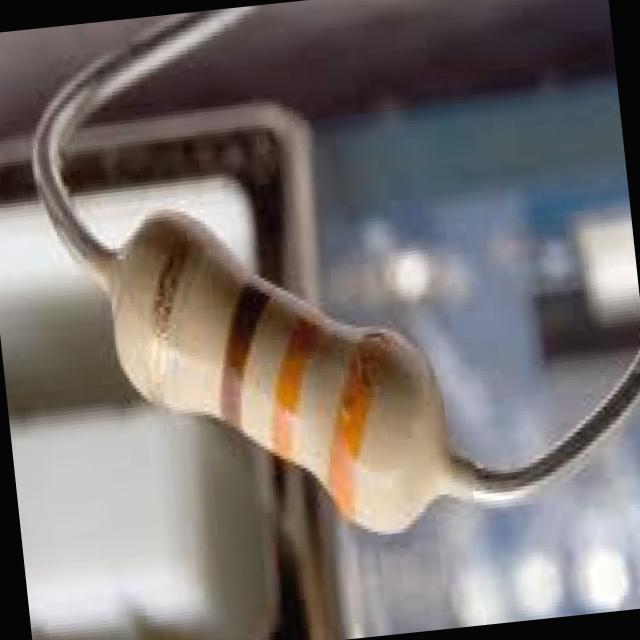Resistor: (110, 219, 448, 529)
brown: (220, 272, 273, 432)
gold: (147, 210, 200, 405)
orange: (329, 330, 397, 522), (273, 300, 324, 456)
